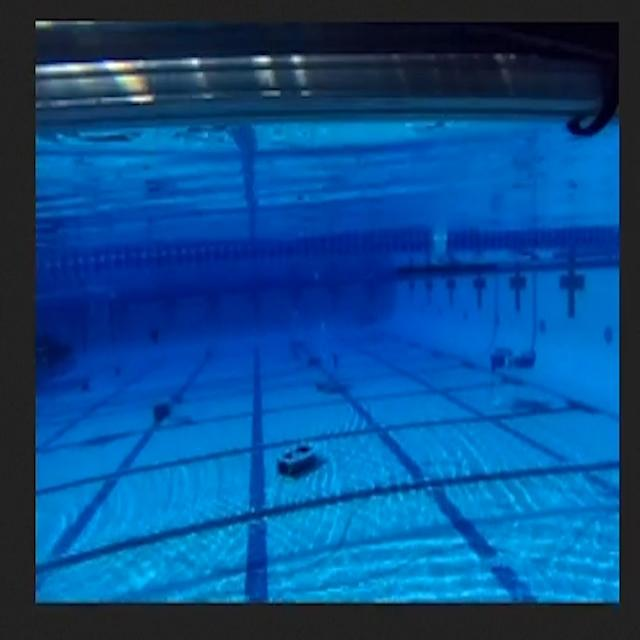Bin: (262, 420, 334, 492)
